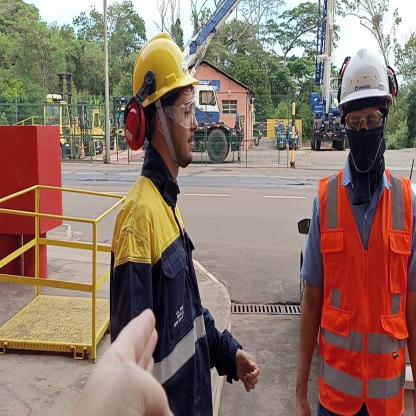Balaclava: (337, 96, 390, 192)
C_eletrica: (107, 171, 246, 416)
Capacete: (131, 35, 202, 94), (334, 48, 397, 102)
colete: (319, 167, 409, 416)
